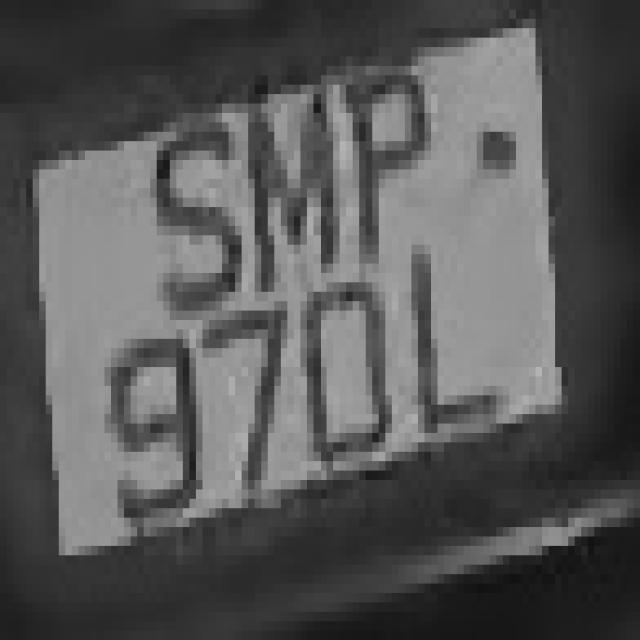0: (281, 235, 385, 499)
7: (189, 301, 294, 546)
9: (111, 282, 202, 546)
L: (385, 226, 503, 489)
M: (222, 75, 333, 320)
P: (333, 38, 438, 282)
S: (137, 85, 242, 320)
